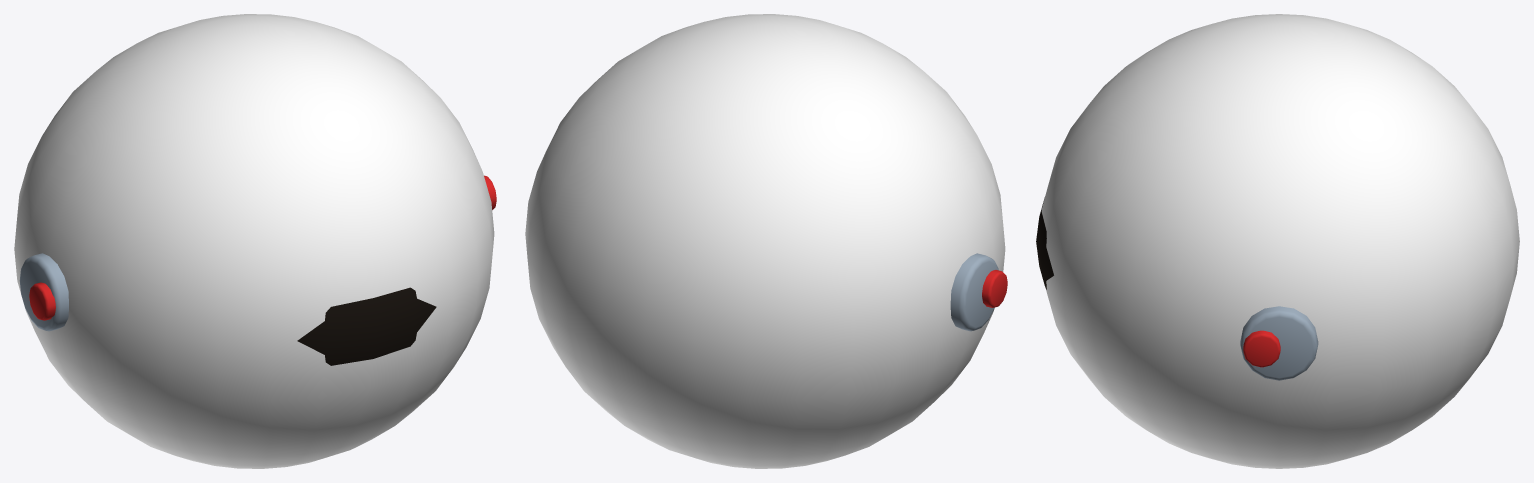
The model's file is hat_astronaut.glb.
3 renders of one model, left to right at view 1: azimuth 30°, elevation 25°; view 2: azimuth 150°, elevation 25°; view 3: azimuth 270°, elevation 25°, orthographic.
Visible parts, largest first — view 1: hat_astronaut; view 2: hat_astronaut; view 3: hat_astronaut.
Boxes of the visible parts, x1,y1,x2,y2 form: hat_astronaut: (14,14,496,468); hat_astronaut: (525,14,1007,468); hat_astronaut: (1036,14,1519,468).
Size of the model in its own units: 0.6016 by 0.5194 by 0.5595.
